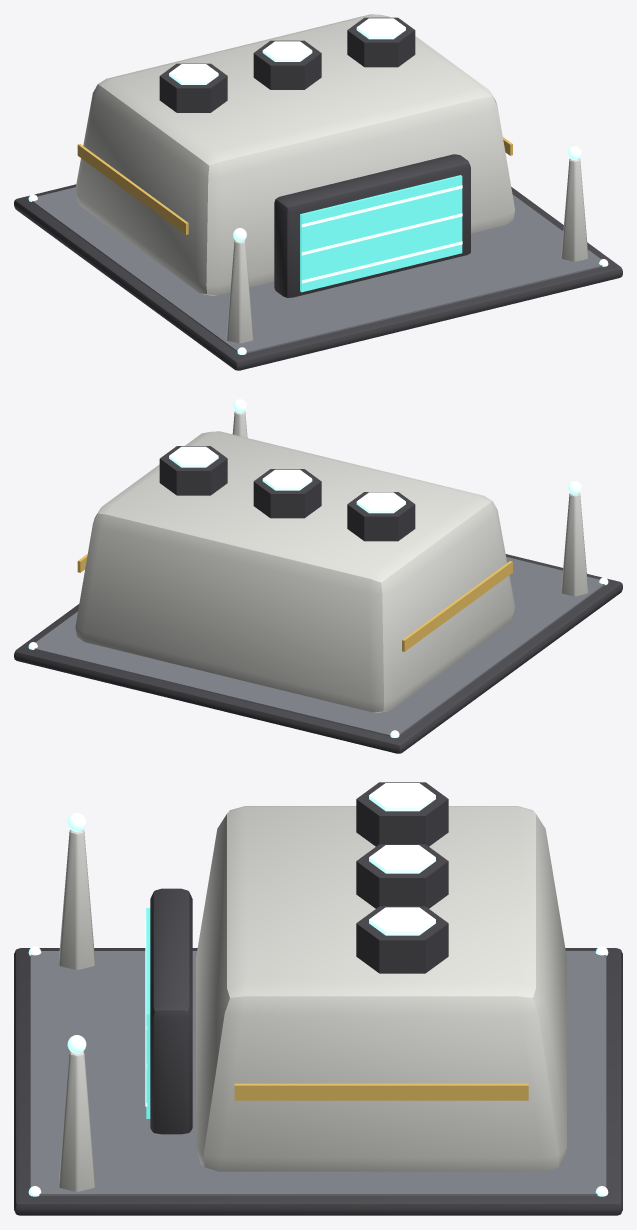
The model's file is factory_rob.glb.
3 renders of one model, top to bottom at view 1: azimuth 30°, elevation 25°; view 2: azimuth 150°, elevation 25°; view 3: azimuth 270°, elevation 25°, orthographic. The views are drawn at different scales.
Parts seen in each view (by area): view 1: factory_rob; view 2: factory_rob; view 3: factory_rob.
Boxes of the visible parts, left/top/right/bottom form: factory_rob: left=14, top=14, right=622, bottom=370; factory_rob: left=14, top=399, right=622, bottom=753; factory_rob: left=14, top=782, right=622, bottom=1215.
Bounding box in the file's own units: 2.9 × 1.22 × 2.9.
